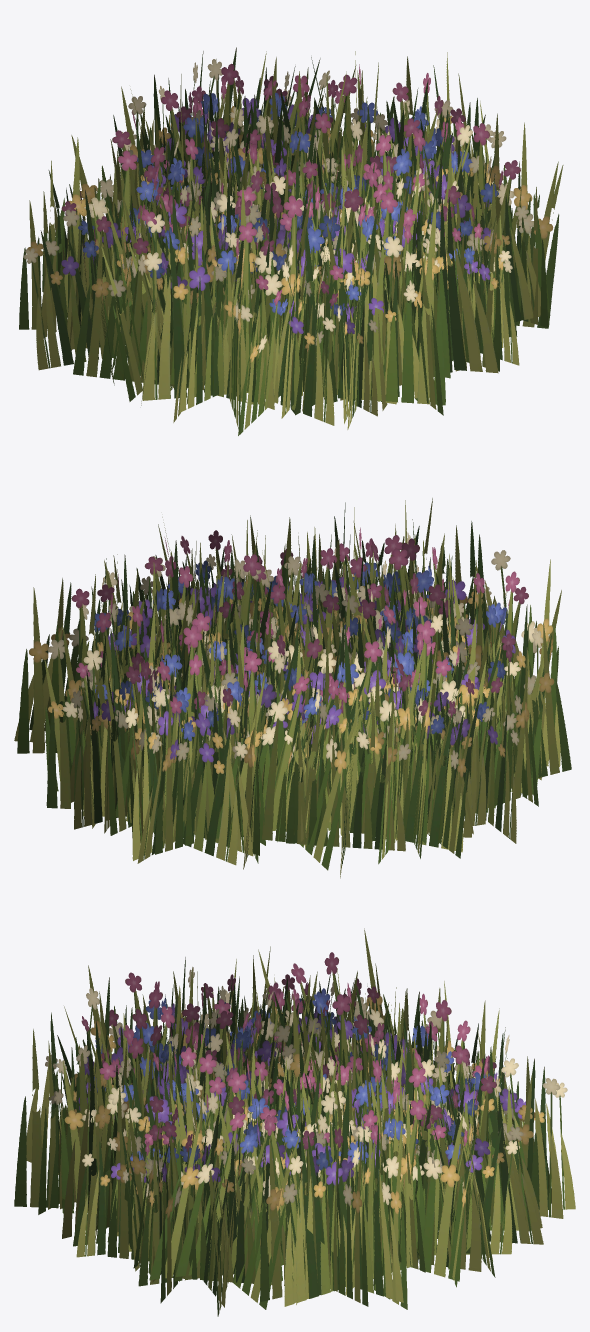
File: flowers.glb
The picture shows the model from 3 angles, top to bottom: view 1: azimuth 30°, elevation 25°; view 2: azimuth 150°, elevation 25°; view 3: azimuth 270°, elevation 25°; orthographic projection. The views are drawn at different scales.
Visible parts, largest first — view 1: flowers; view 2: flowers; view 3: flowers.
Part boxes in pixels (<box>): flowers: <box>19,47,563,435</box>; flowers: <box>14,498,571,878</box>; flowers: <box>14,928,575,1316</box>.
Size of the model in its own units: 1.44 by 0.6313 by 1.46.
Materials: 1 (1 with a texture image).
